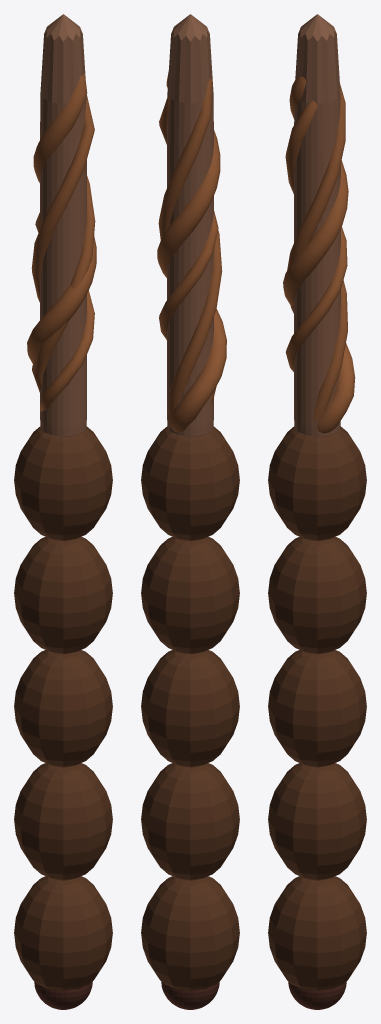
The model's file is Wand 273.glb.
3 renders of one model, left to right at view 1: azimuth 30°, elevation 25°; view 2: azimuth 210°, elevation 25°; view 3: azimuth 270°, elevation 25°, orthographic.
Visible parts, largest first — view 1: GeneratedWand; view 2: GeneratedWand; view 3: GeneratedWand.
Part boxes in pixels (x1,y1,x2,y2): GeneratedWand: (14,14,112,1009); GeneratedWand: (141,14,239,1009); GeneratedWand: (268,14,366,1009).
Bounding box in the file's own units: 0.0447 × 0.4978 × 0.0449.
